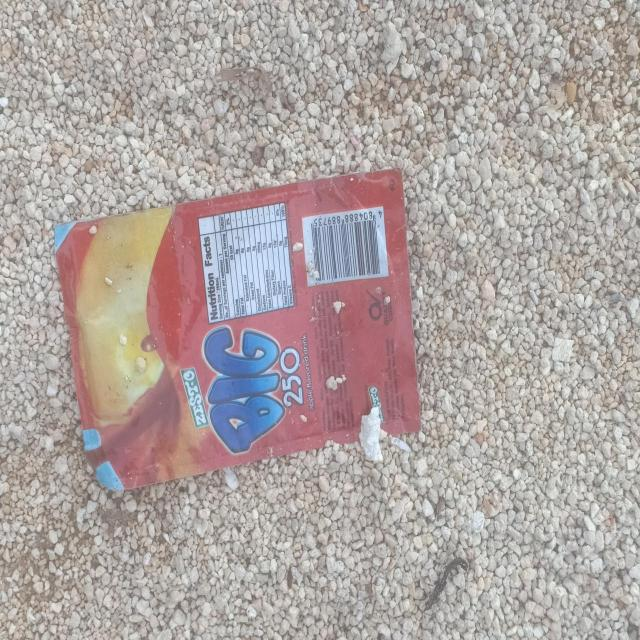litter: (54, 166, 422, 492)
